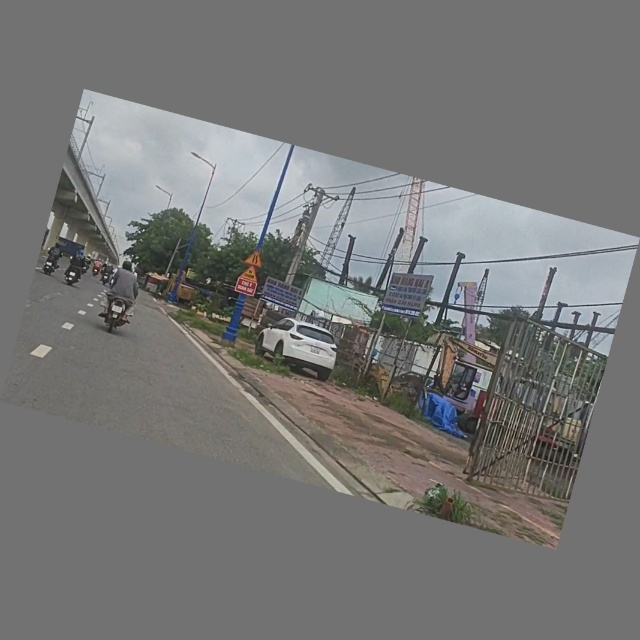W.203c: (243, 249, 266, 268)
W.245a: (238, 264, 263, 284)
